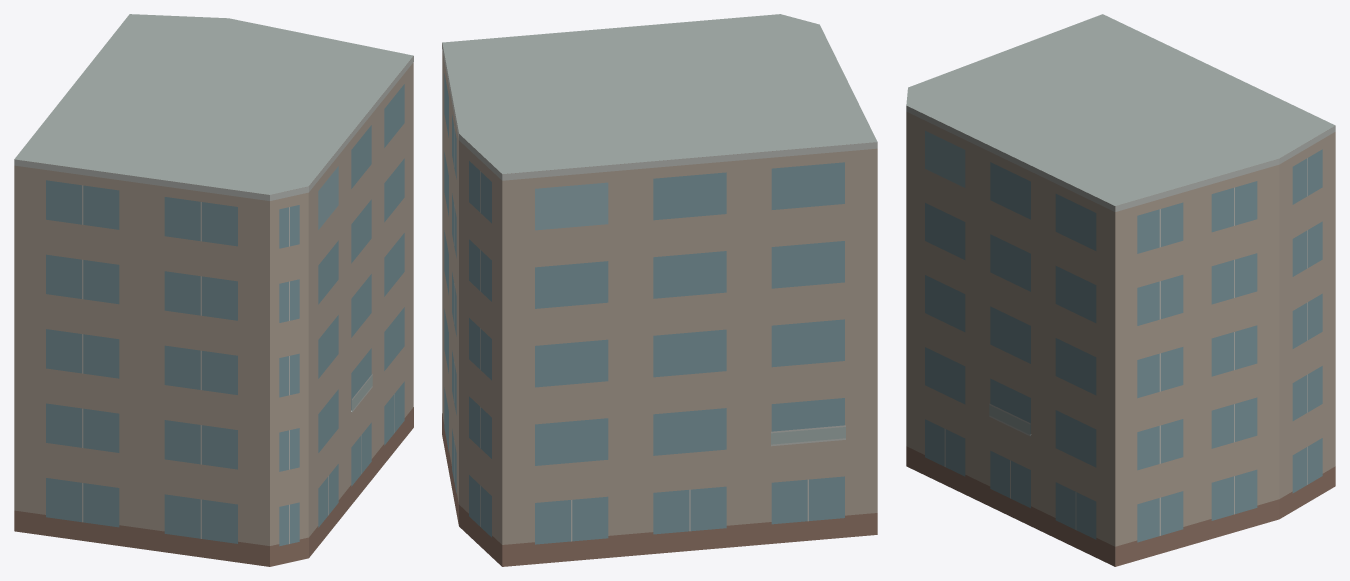
The model's file is survey-upis-32786850.glb.
The picture shows the model from 3 angles, left to right: view 1: azimuth 30°, elevation 25°; view 2: azimuth 150°, elevation 25°; view 3: azimuth 270°, elevation 25°; orthographic projection. The views are drawn at different scales.
Visible parts, largest first — view 1: survey-upis-32786850.tmp; view 2: survey-upis-32786850.tmp; view 3: survey-upis-32786850.tmp.
Part boxes in pixels (x1,y1,x2,y2): survey-upis-32786850.tmp: (14, 14, 413, 566); survey-upis-32786850.tmp: (442, 14, 877, 566); survey-upis-32786850.tmp: (906, 14, 1335, 566).
Bounding box in the file's own units: 16.69 × 14.6 × 15.76.
